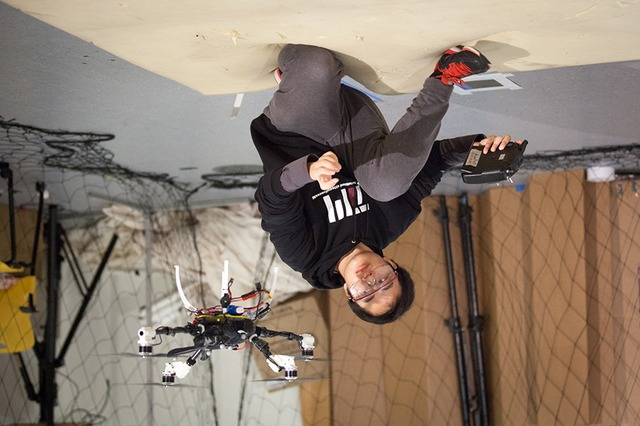drone: (127, 262, 319, 386)
